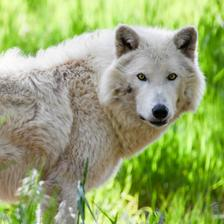WOLF: (0, 25, 204, 158)
